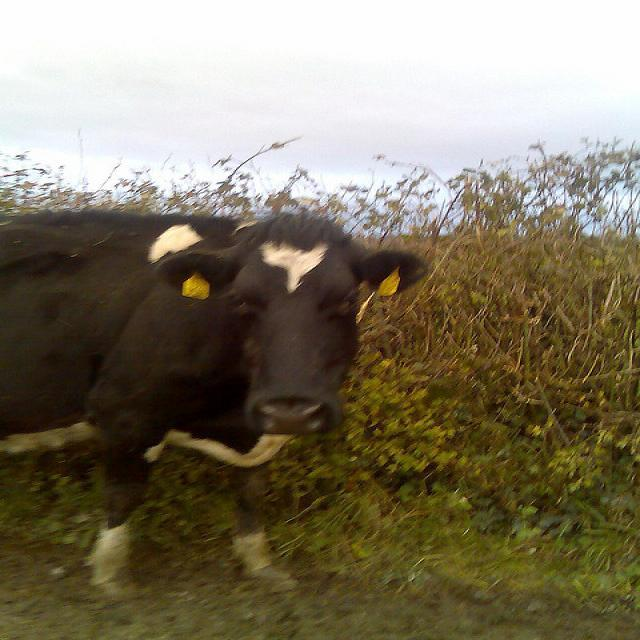cow: (1, 205, 436, 588)
